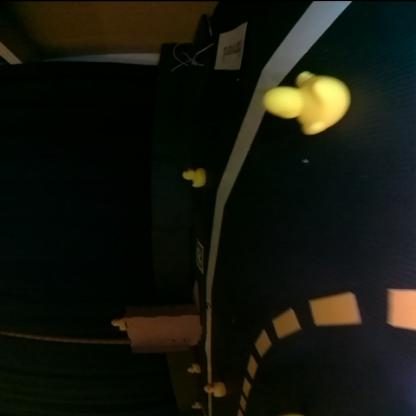Duckie: (262, 70, 350, 134), (183, 167, 204, 186), (205, 382, 221, 396), (110, 319, 126, 331), (188, 364, 200, 372), (192, 402, 198, 409)
QR code: (193, 240, 202, 272)
